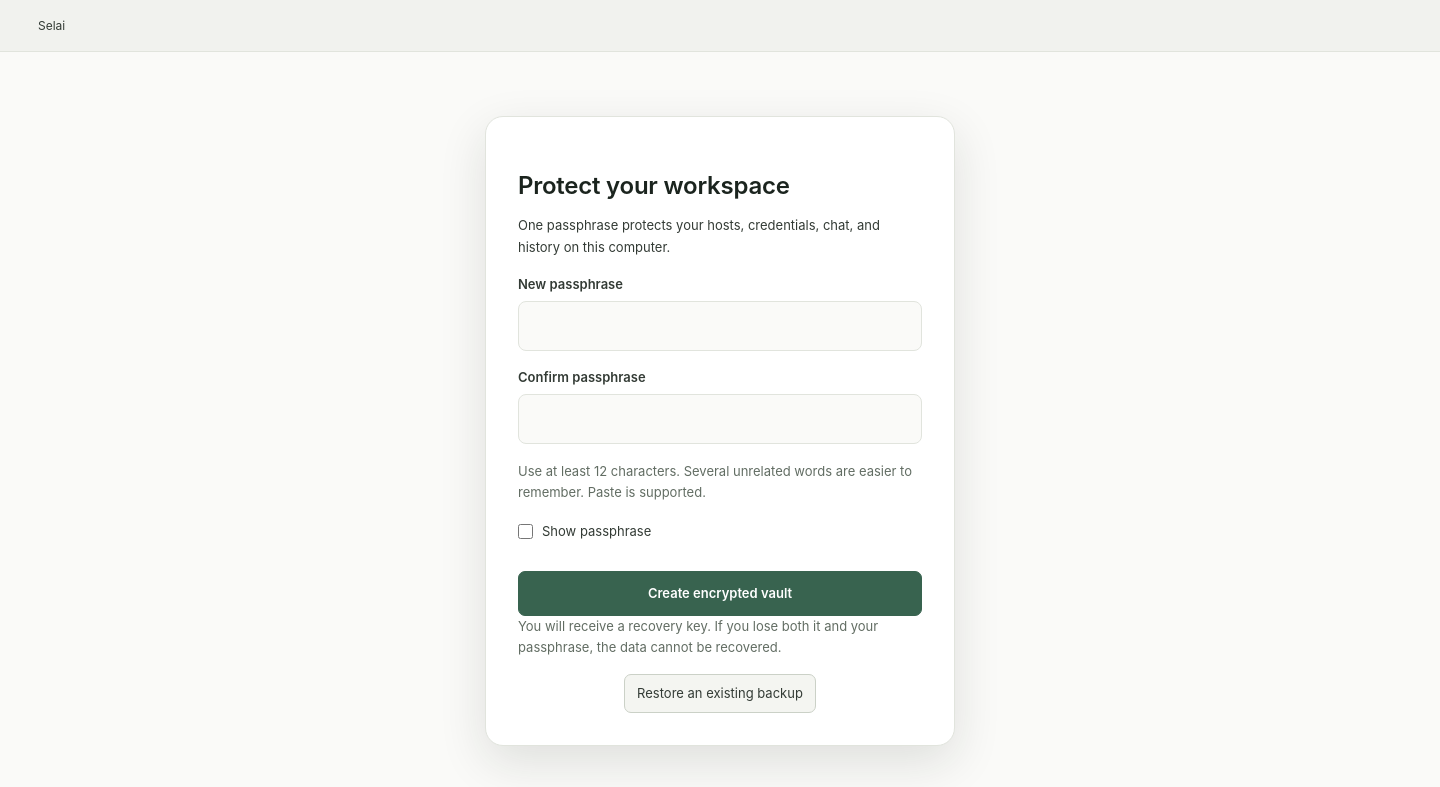
Scenario: Vault gate › can restore a backup with its recovery key and a new passphrase
Click the button "Restore an existing backup". click: {"x": 720, "y": 694}
box: [624,674,816,713]
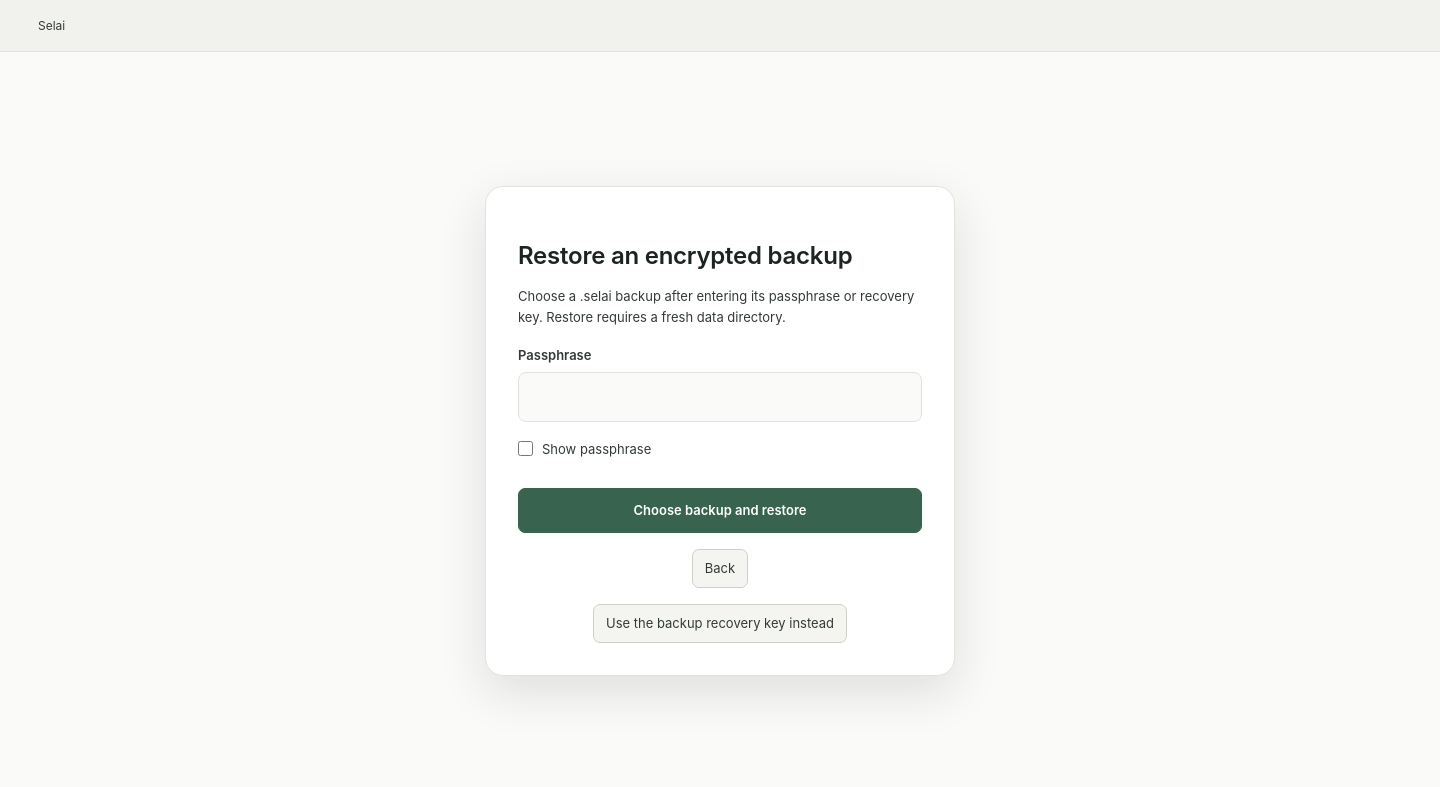
Click the button "Use the backup recovery key instead". click: {"x": 720, "y": 624}
box: [593,604,847,643]
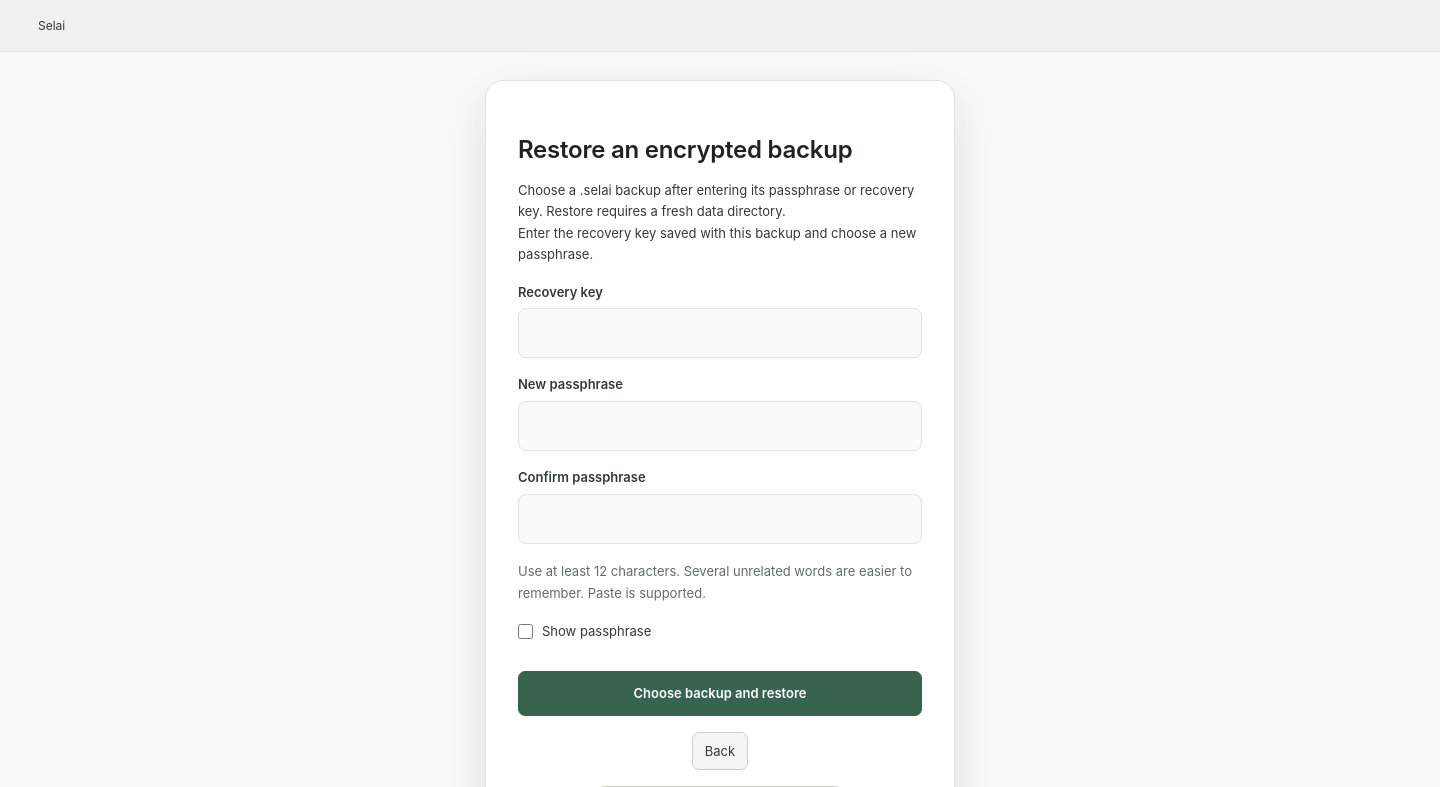
Type "saved-backup-recovery-code" into the password field labelled "Recovery key". click: {"x": 720, "y": 333}
box: [518,308,922,358]
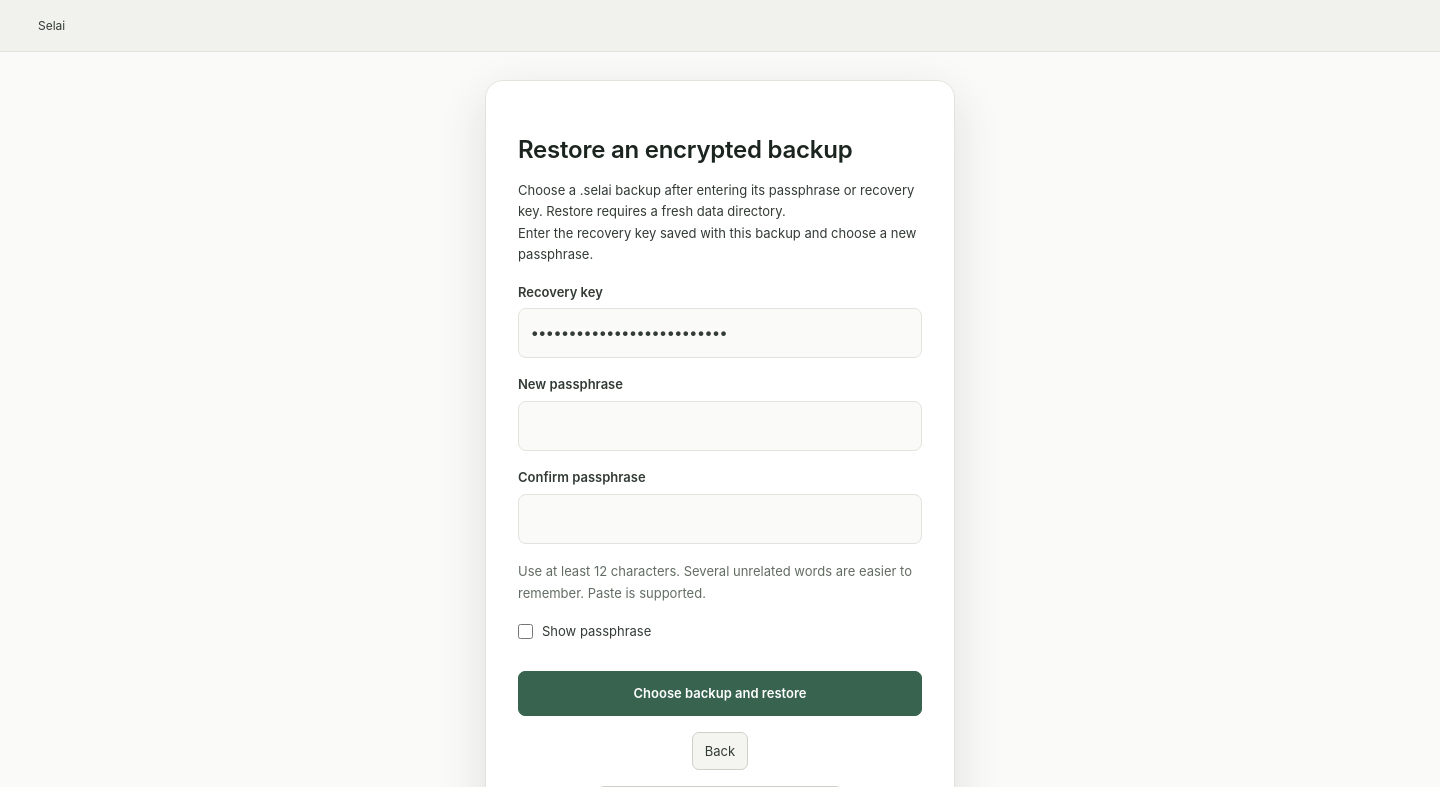
Type "forest river orange telescope" into the password field labelled "New passphrase". click: {"x": 720, "y": 426}
box: [518,401,922,451]
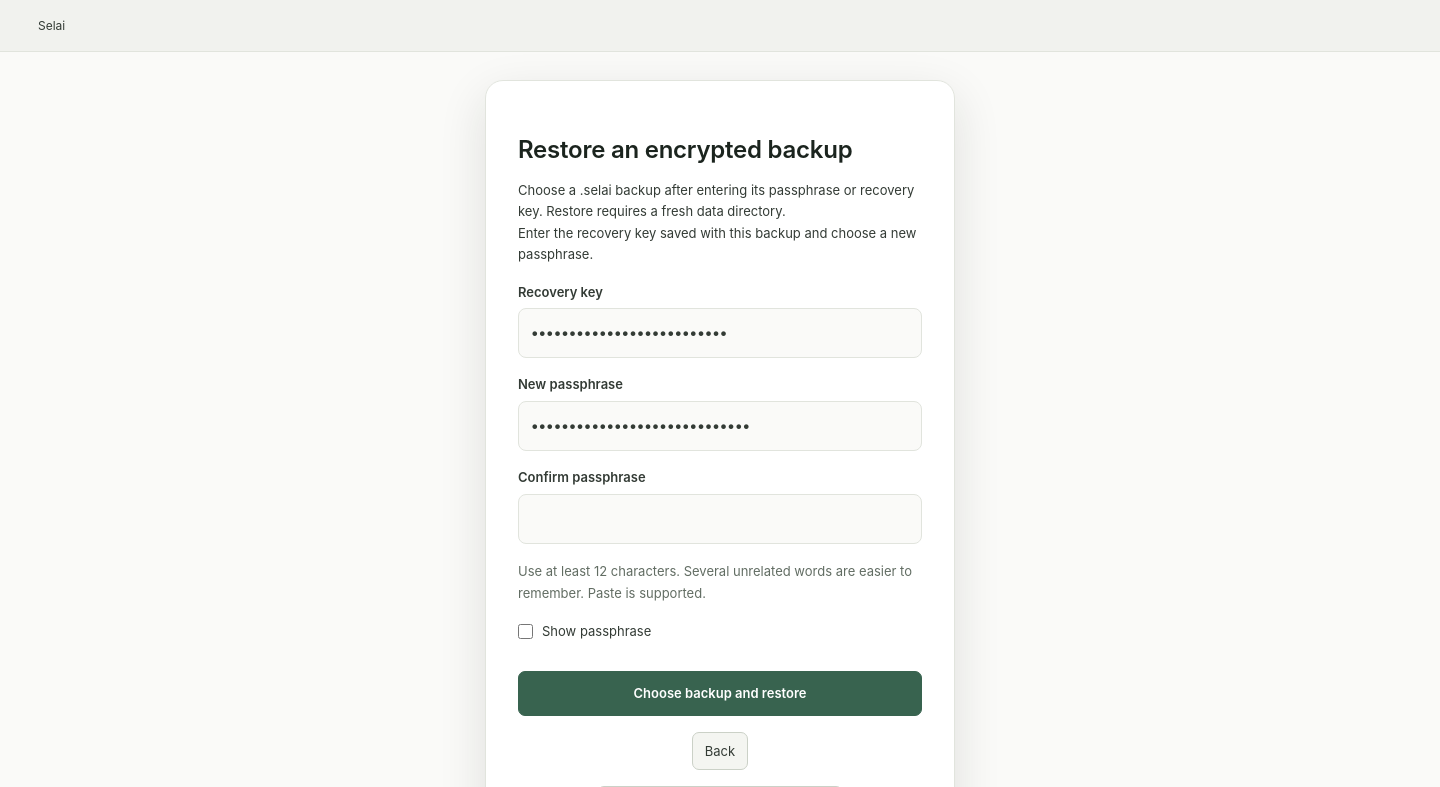
Type "forest river orange telescope" into the password field labelled "Confirm passphrase". click: {"x": 720, "y": 519}
box: [518,494,922,544]
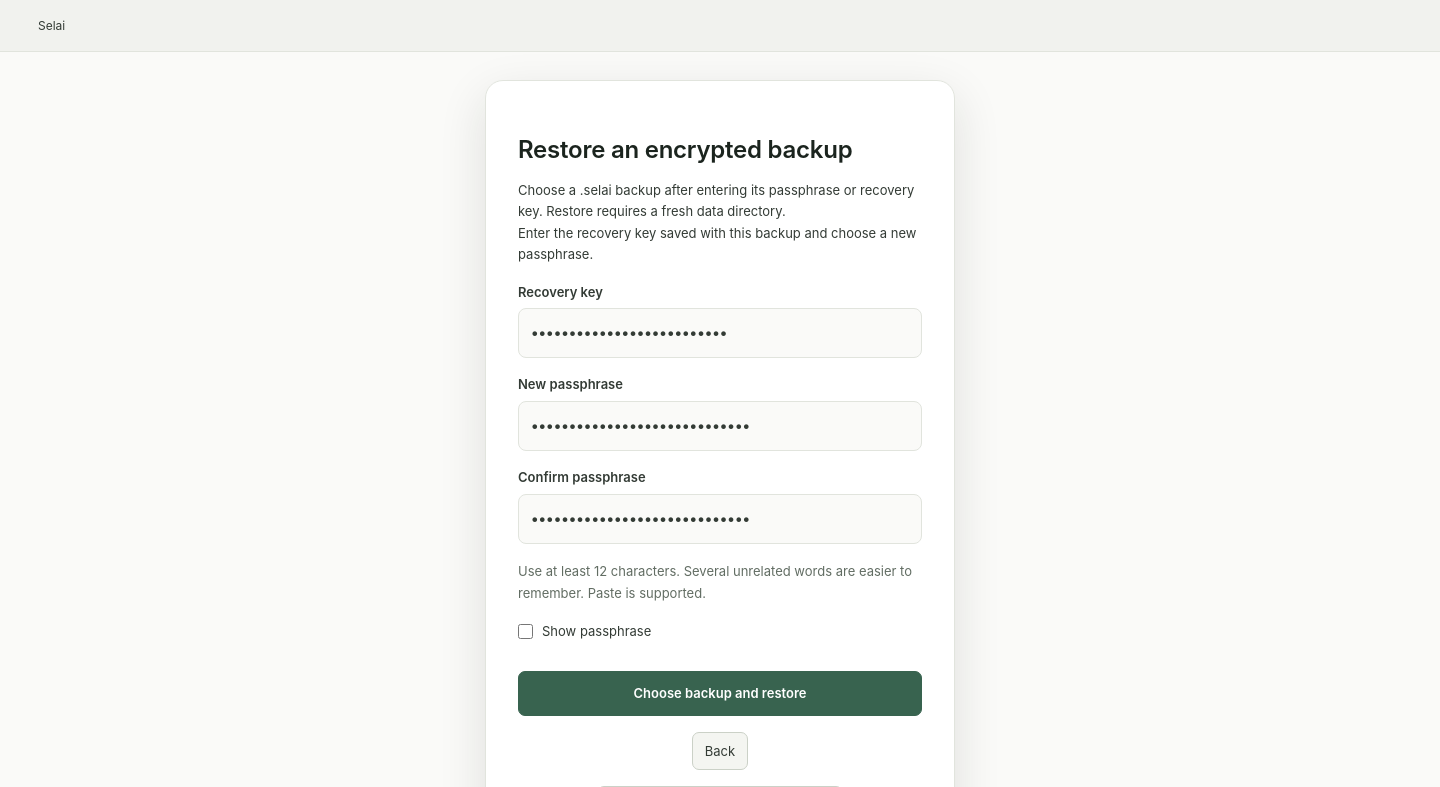
Click the button "Choose backup and restore". click: {"x": 720, "y": 693}
box: [518,671,922,716]
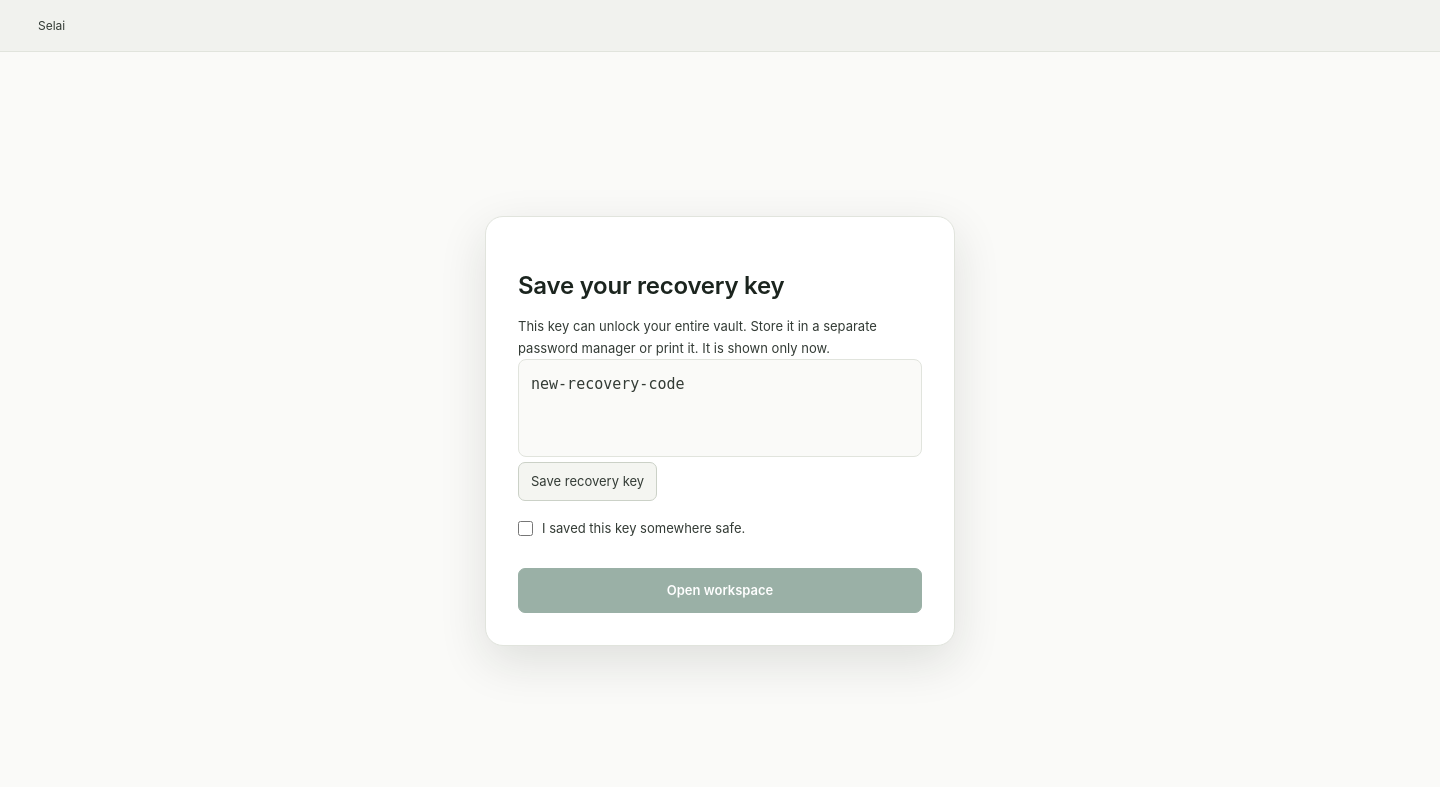
Now the heading "Save your recovery key" is shown, box [518,272,784,300]
Now the text box named "Recovery key" holds "new-recovery-code", box [518,359,922,457]
